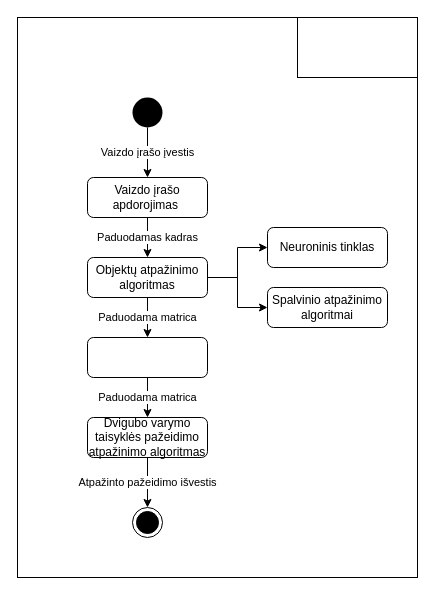
The diagram is 435 pixels wide and 595 high, and some of its shapes have lost their labels. Here are the shapes that lost their labels. From the top down, the box of each, then its label:
(296, 16, 418, 78): Krepšinio taisyklių pažeidimų nustatymo aplikacija
(86, 336, 208, 378): Žingsnių taisyklės pažeidimo atpažinimo algoritmas
